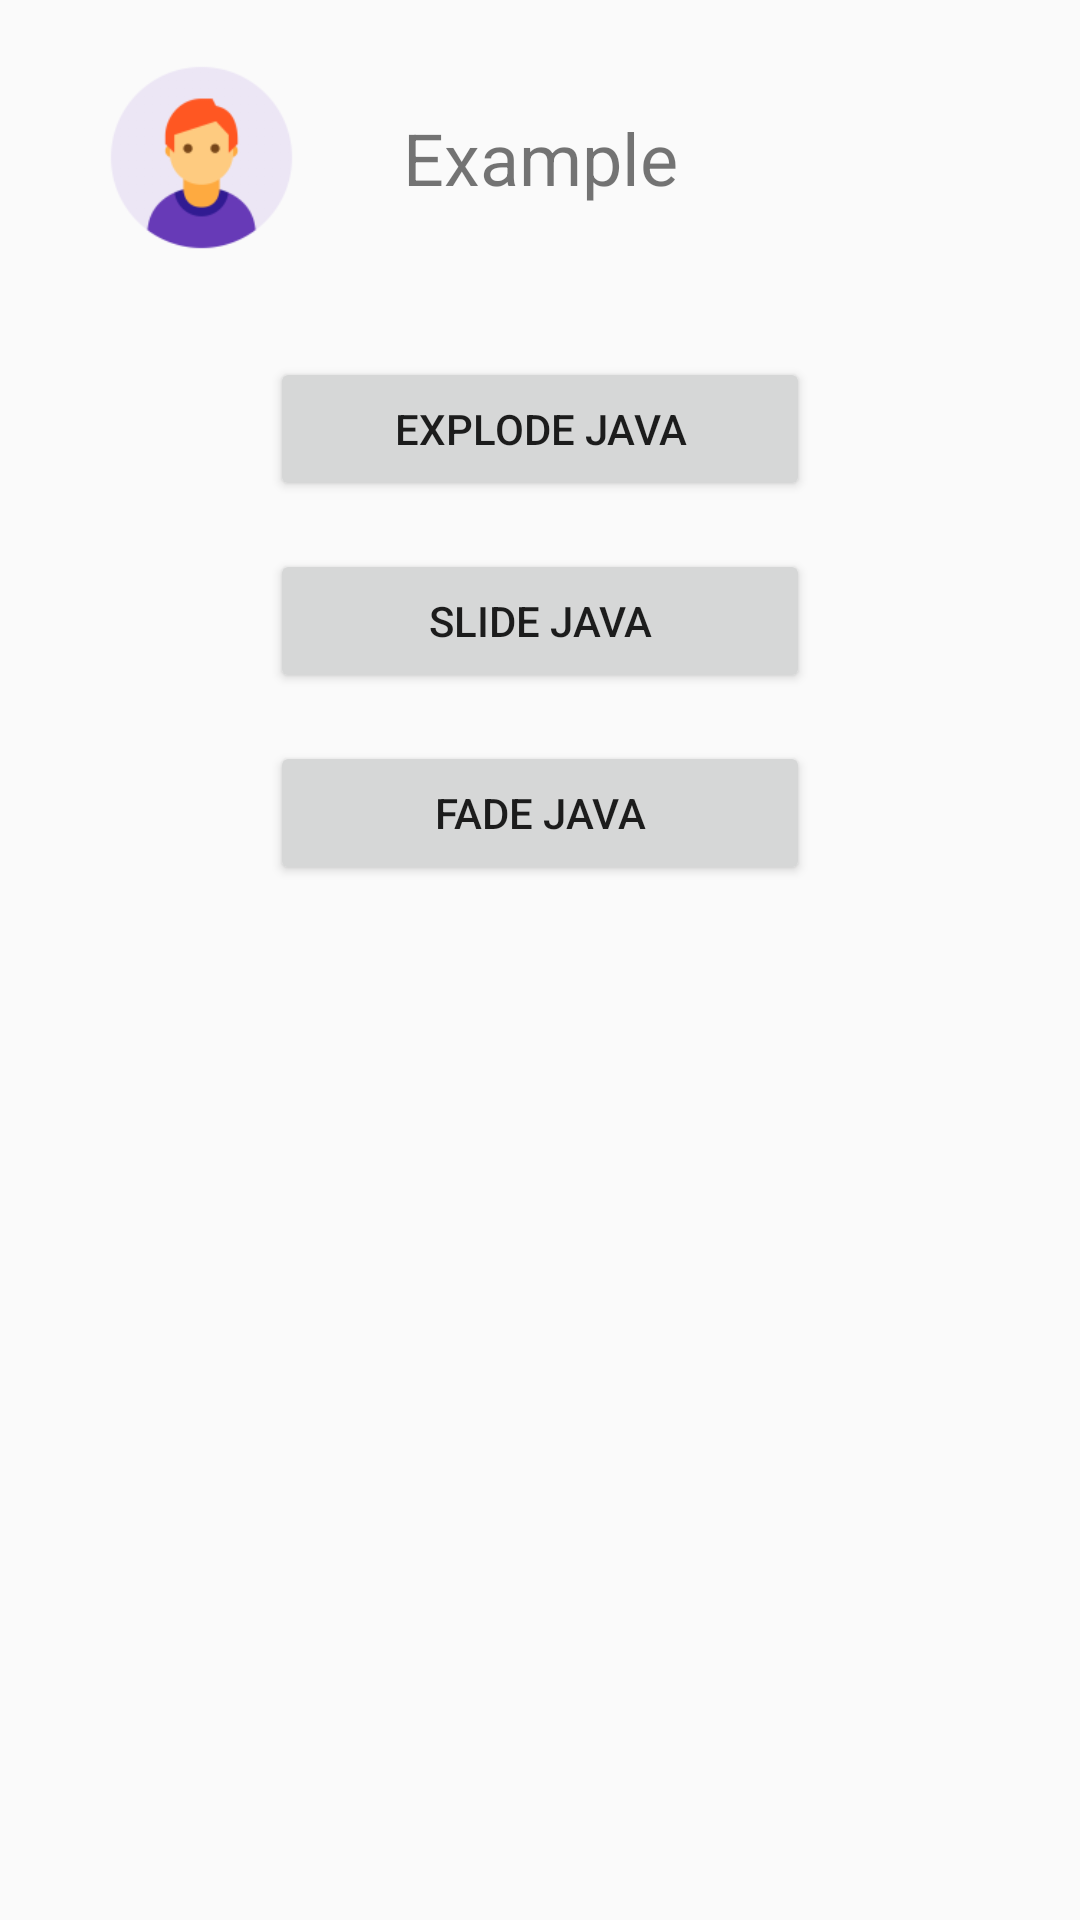

Where to tap for icons on this 1080 × 1920 app screen, as [x,y]:
image user: [201,173]
